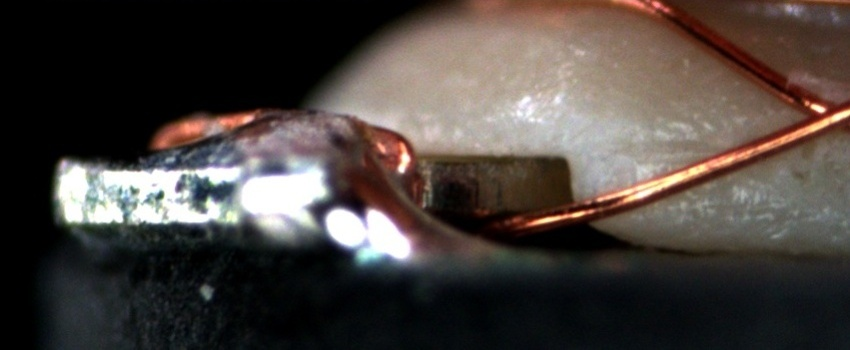CL: (778, 81, 848, 145)
DL: (633, 120, 747, 184)
TE: (140, 101, 424, 183)
